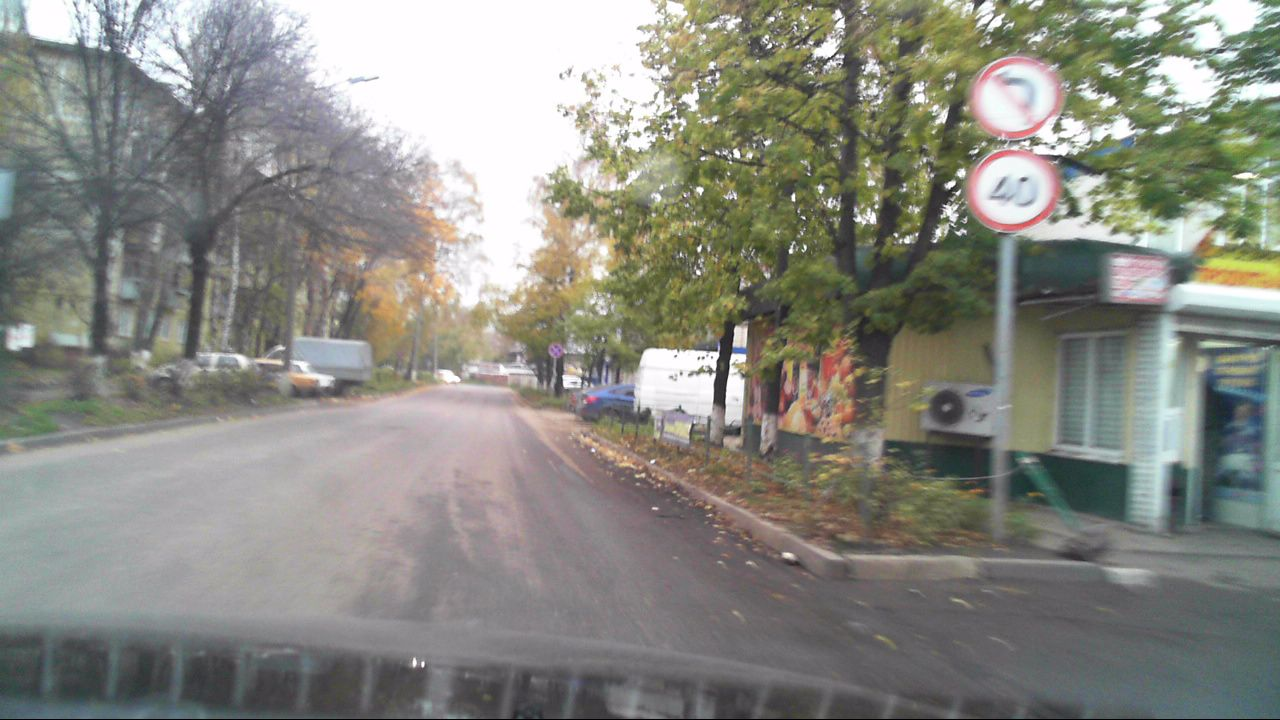speed_warning_40: (966, 148, 1055, 231)
